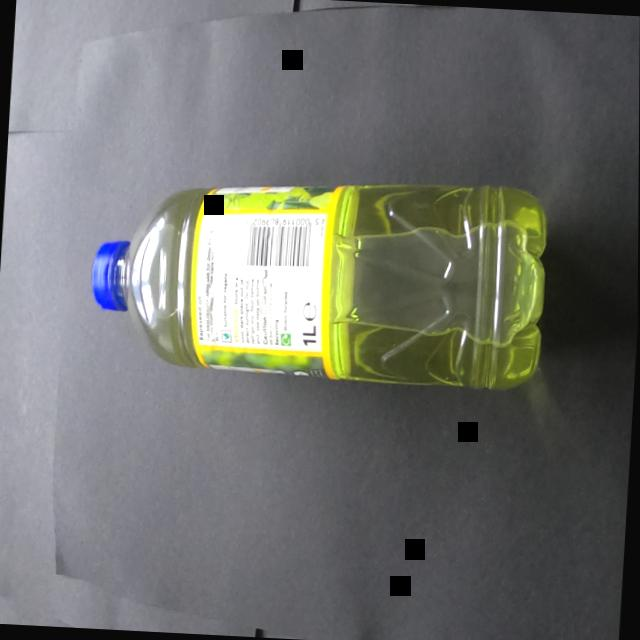Vegetableoil: (70, 142, 565, 437)
